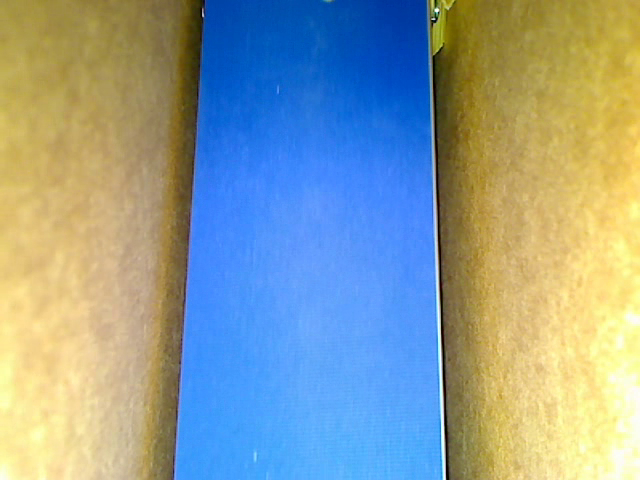penne: (430, 1, 447, 57), (444, 1, 456, 12)
